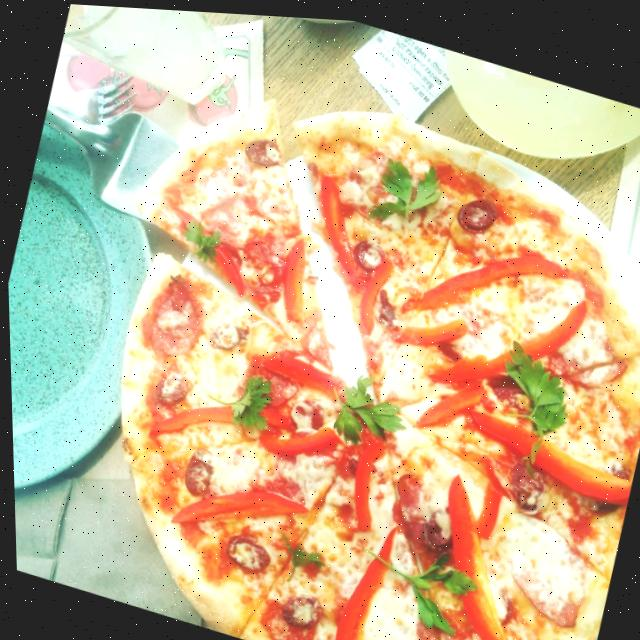pizza: (32, 34, 640, 640)
